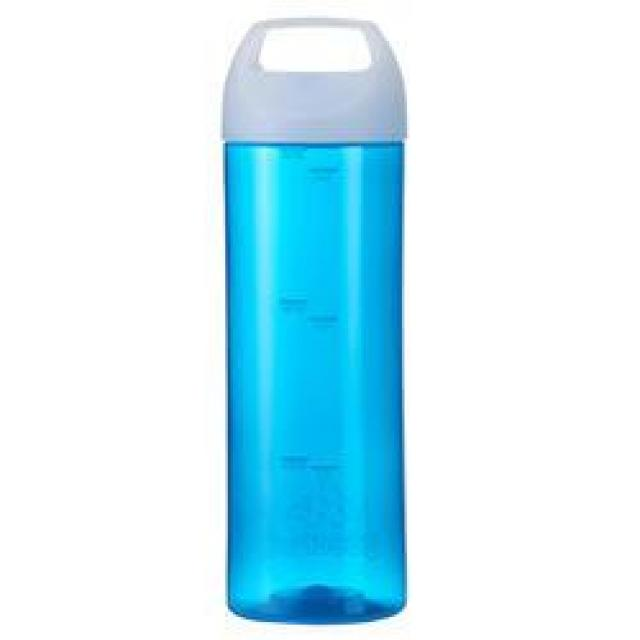plastic_bottle: (220, 22, 414, 605)
